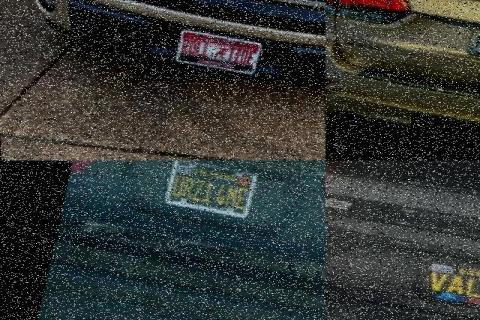LicensePlate: (161, 160, 257, 214), (171, 26, 259, 72), (406, 253, 478, 303)
